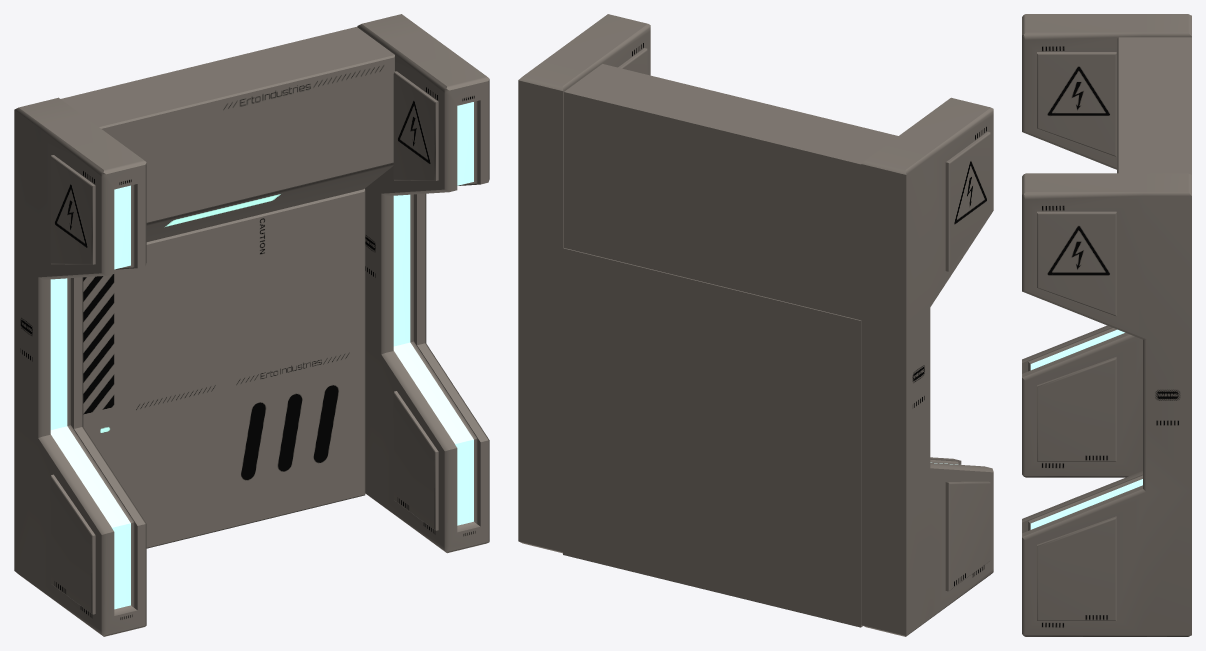
3 renders of one model, left to right at view 1: azimuth 30°, elevation 25°; view 2: azimuth 150°, elevation 25°; view 3: azimuth 270°, elevation 25°, orthographic. The views are drawn at different scales.
Visible parts, largest first — view 1: BasePiece007, Pillar001, Pillar004, AnglePiece001; view 2: BasePiece007, AnglePiece001, Pillar001, Pillar004; view 3: Pillar004, Pillar001, AnglePiece001.
Boxes of the visible parts, bbox=[...] form: BasePiece007: bbox=[83, 188, 365, 548]; Pillar001: bbox=[14, 97, 146, 636]; Pillar004: bbox=[357, 14, 489, 553]; AnglePiece001: bbox=[61, 27, 394, 241]; BasePiece007: bbox=[563, 248, 862, 627]; AnglePiece001: bbox=[564, 64, 897, 320]; Pillar001: bbox=[861, 97, 993, 636]; Pillar004: bbox=[518, 14, 650, 553]; Pillar004: bbox=[1022, 173, 1191, 636]; Pillar001: bbox=[1022, 14, 1191, 477]; AnglePiece001: bbox=[1117, 37, 1191, 174].
Size of the model in its own units: 2.66 by 3 by 1.04.
Materials: 3 (3 with a texture image).
